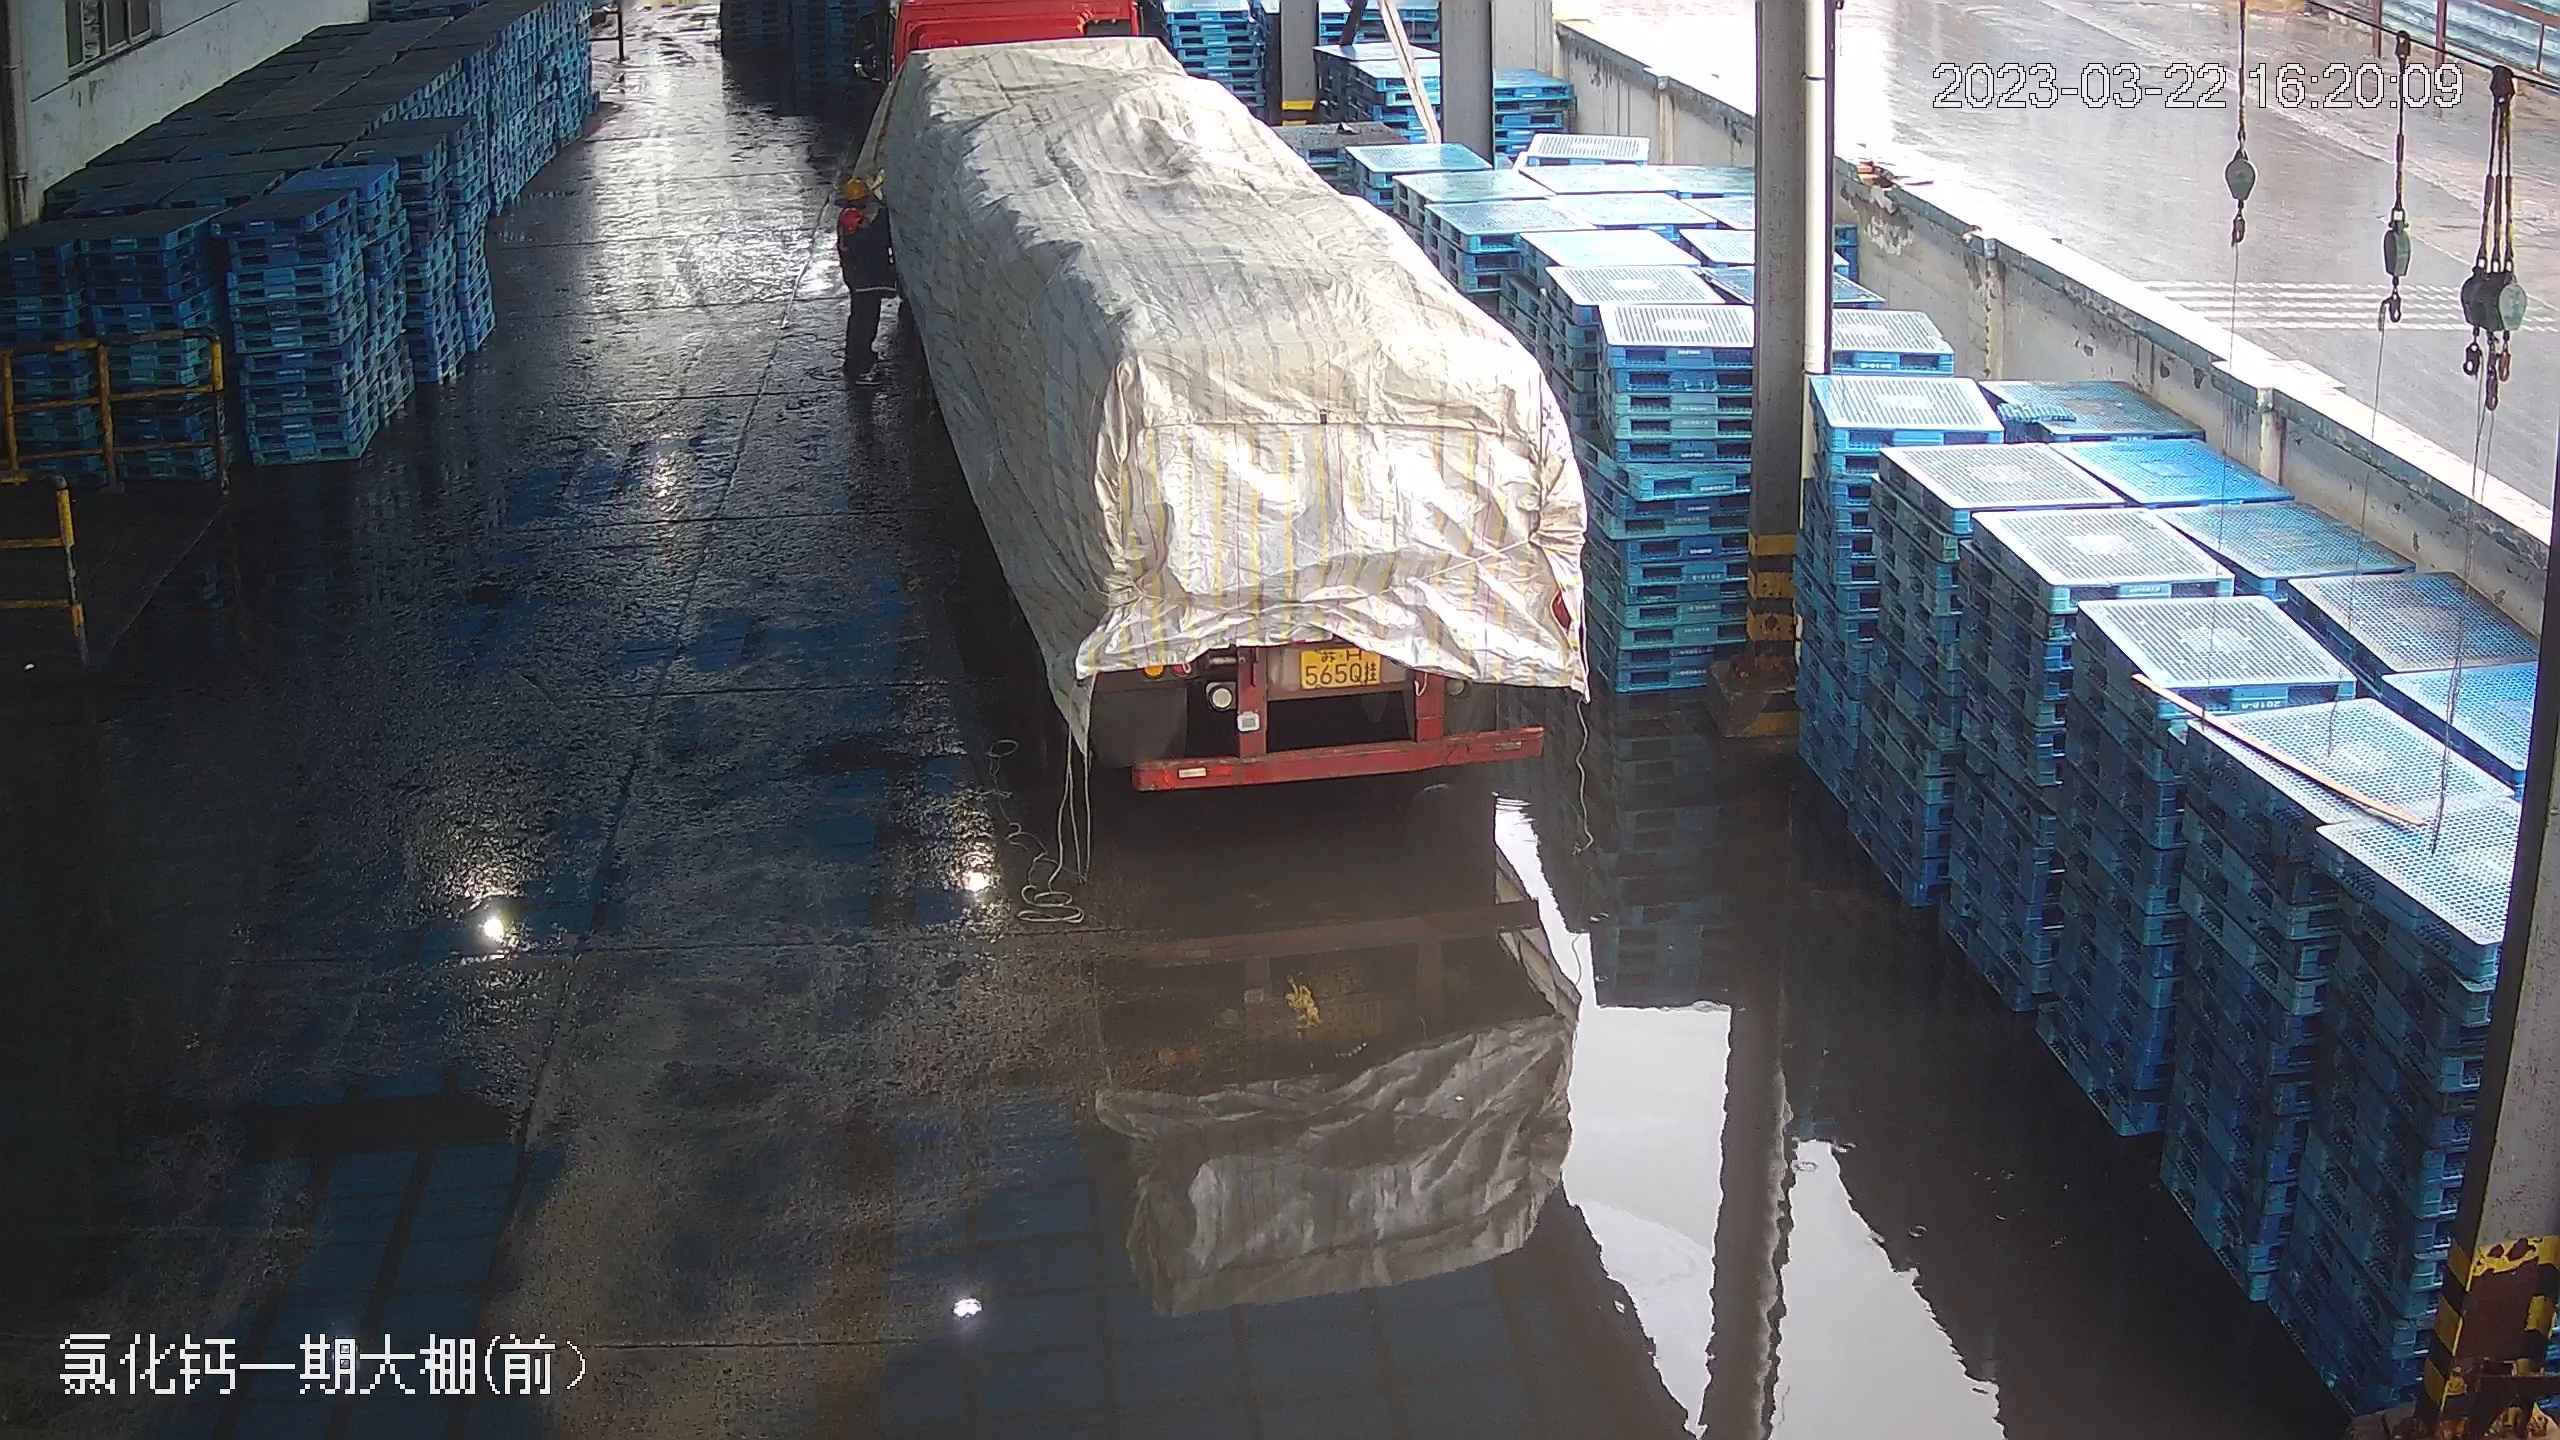head: (835, 171, 892, 239)
helmet: (842, 170, 875, 197)
people: (836, 170, 901, 386)
truck: (835, 3, 1621, 818)
